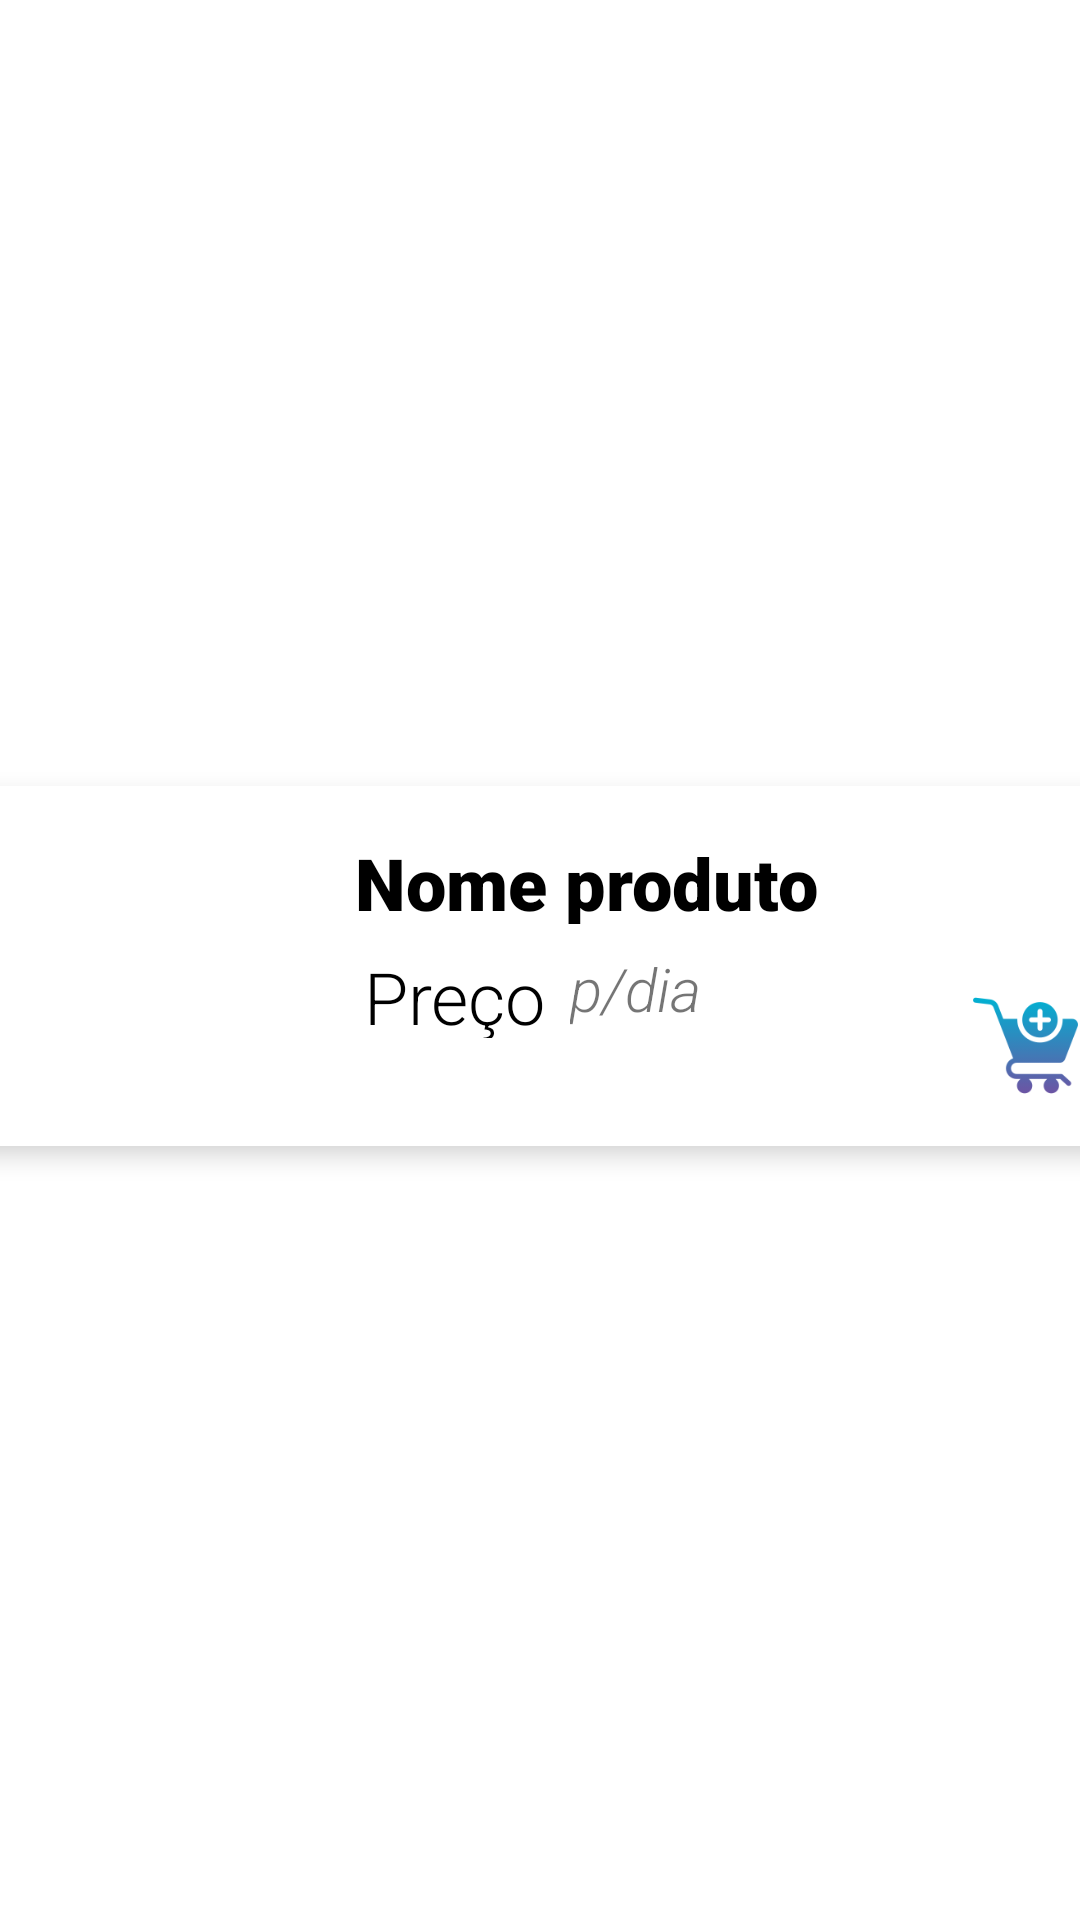

Where to tap for icons on this 1080*1920 app screen, as [x,y]:
addcarrinho: [1025,1045]
